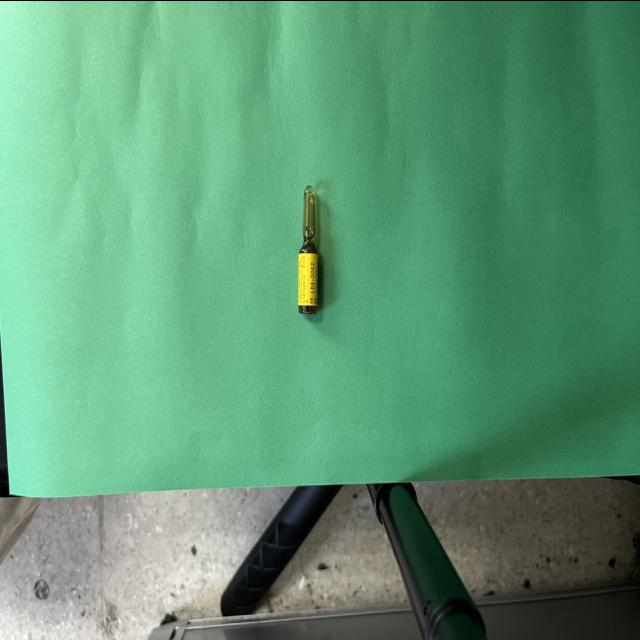Ampoules: (298, 184, 318, 314)
